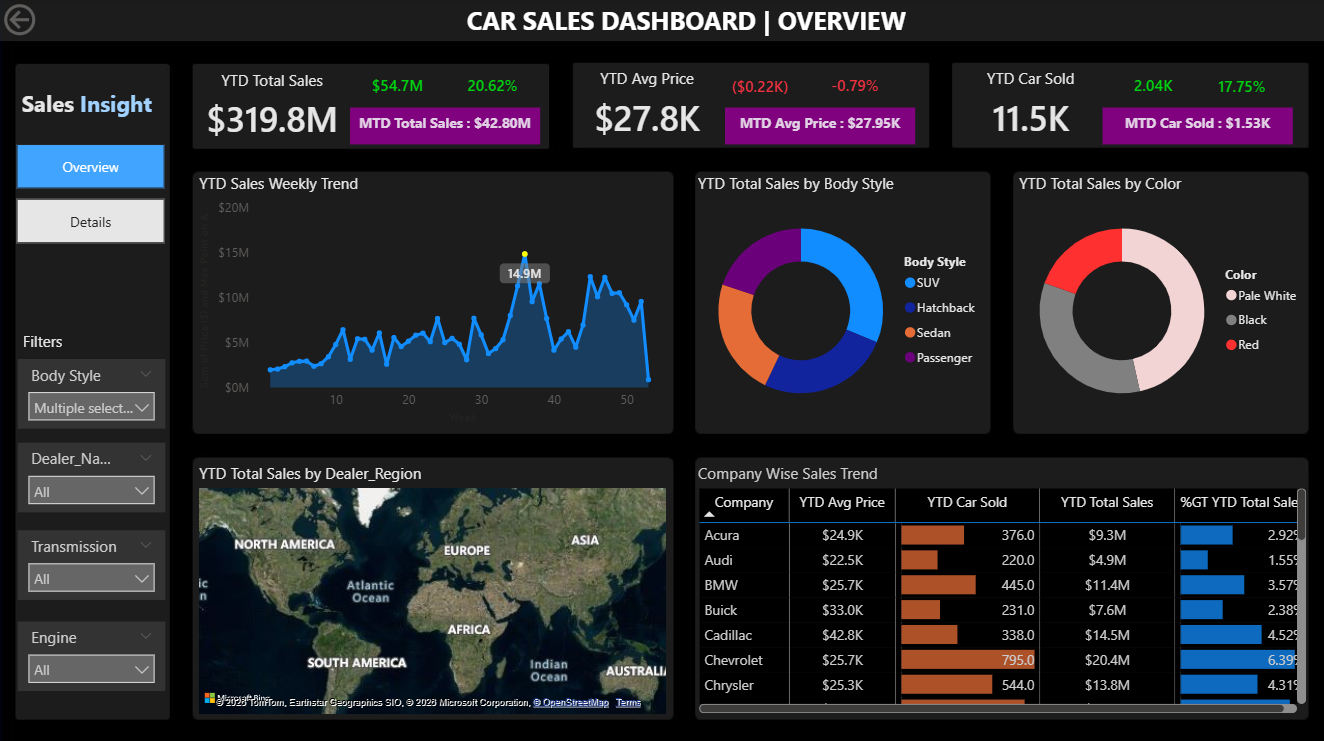

Layout of this report page (visuals, bound fields, positions):
{"tool":"powerbi","page":{"name":"Page 1","canvas":[1280,720],"ordinal":0},"visuals":[{"type":"card","title":"YTD Total Sales","fields":{"Values":["car_data.YTD Total Sales"]},"box":[188.2,67.6,150.8,77.2],"z":0},{"type":"card","fields":{"Values":["car_data.Sales Difference"]},"box":[339,66.4,91.7,38.6],"z":1000},{"type":"card","fields":{"Values":["car_data.YOY Sales Growth"]},"box":[430.7,66.4,91.7,38.6],"z":2000},{"type":"card","fields":{"Values":["car_data.MTD KPI"]},"box":[339,105,183.4,35],"z":3000},{"type":"card","title":"YTD Avg Price ","fields":{"Values":["car_data.YTD Avg Price"]},"box":[550.1,66.4,150.8,77.2],"z":4000},{"type":"card","fields":{"Values":["car_data.Avg Price Diff"]},"box":[688.9,67.6,91.7,38.6],"z":5000},{"type":"card","fields":{"Values":["car_data.YOY Avg Price Growth"]},"box":[780.6,66.4,91.7,38.6],"z":6000},{"type":"card","fields":{"Values":["car_data.MTD Avg Price KPI"]},"box":[700.9,105,183.4,35],"z":7000},{"type":"card","title":"YTD Car Sold","fields":{"Values":["car_data.YTD Car Sold"]},"box":[920.5,66.4,150.8,77.2],"z":8000},{"type":"card","fields":{"Values":["car_data.Car Sold Diff"]},"box":[1071.3,66.4,85.7,38.6],"z":9000},{"type":"actionButton","box":[0,0,100,40],"z":10000},{"type":"card","fields":{"Values":["car_data.YOY Car Sold Growth"]},"box":[1157,67.6,85.7,38.6],"z":11000},{"type":"card","fields":{"Values":["car_data.MTD Car Sold KPI"]},"box":[1065.3,105,183.4,35],"z":12000},{"type":"areaChart","title":"YTD Sales Weekly Trend","fields":{"Category":["Calender Table.Week"],"Y":["Sum(car_data.Price ($))","car_data.Max Point on Area Chart"]},"box":[188.2,167.7,460.9,247.3],"z":13000},{"type":"donutChart","fields":{"Category":["car_data.Body Style"],"Y":["car_data.YTD Total Sales"]},"box":[669.6,167.4,286.8,247],"z":14000},{"type":"donutChart","fields":{"Y":["car_data.YTD Total Sales"],"Category":["car_data.Color"]},"box":[979.8,167.4,286.8,247],"z":15000},{"type":"treemap","fields":{"Group":["car_data.Dealer_Region"],"Values":["car_data.YTD Total Sales"]},"box":[188,447.3,461.1,247],"z":16000},{"type":"tableEx","title":"Company Wise Sales Trend","fields":{"Values":["car_data.Company","car_data.YTD Avg Price","car_data.YTD Car Sold","car_data.YTD Total Sales1","car_data.YTD Total Sales"]},"box":[669.6,447.3,596.9,247],"z":17000},{"type":"textbox","box":[430.9,0,465.2,64.5],"z":18000},{"type":"slicer","fields":{"Values":["car_data.Body Style"]},"box":[18.1,347.5,142.4,67.6],"z":19000},{"type":"slicer","fields":{"Values":["car_data.Dealer_Name","car_data.Dealer_Region"]},"box":[18.1,428.3,142.4,67.6],"z":20000},{"type":"slicer","fields":{"Values":["car_data.Transmission"]},"box":[18.1,512.7,142.4,67.6],"z":21000},{"type":"slicer","fields":{"Values":["car_data.Engine"]},"box":[18.1,600.8,142.4,67.6],"z":22000},{"type":"textbox","box":[18.1,314.9,59.1,32.6],"z":23000}]}

Visuals, with their boxes on the page's 1280x720 design canvas (x1, y1, x2, y2). These are canvas units, not pixel positions in the 1324x741 screenshot, which may show the page scaled, cropped or inside an application window:
"YTD Total Sales" card: (x1=188, y1=68, x2=339, y2=145)
card - car_data.Sales Difference: (x1=339, y1=66, x2=431, y2=105)
card - car_data.YOY Sales Growth: (x1=431, y1=66, x2=522, y2=105)
card - car_data.MTD KPI: (x1=339, y1=105, x2=522, y2=140)
"YTD Avg Price " card: (x1=550, y1=66, x2=701, y2=144)
card - car_data.Avg Price Diff: (x1=689, y1=68, x2=781, y2=106)
card - car_data.YOY Avg Price Growth: (x1=781, y1=66, x2=872, y2=105)
card - car_data.MTD Avg Price KPI: (x1=701, y1=105, x2=884, y2=140)
"YTD Car Sold" card: (x1=920, y1=66, x2=1071, y2=144)
card - car_data.Car Sold Diff: (x1=1071, y1=66, x2=1157, y2=105)
actionButton: (x1=0, y1=0, x2=100, y2=40)
card - car_data.YOY Car Sold Growth: (x1=1157, y1=68, x2=1243, y2=106)
card - car_data.MTD Car Sold KPI: (x1=1065, y1=105, x2=1249, y2=140)
"YTD Sales Weekly Trend" areaChart: (x1=188, y1=168, x2=649, y2=415)
donutChart - car_data.Body Style x car_data.YTD Total Sales: (x1=670, y1=167, x2=956, y2=414)
donutChart - car_data.YTD Total Sales x car_data.Color: (x1=980, y1=167, x2=1267, y2=414)
treemap - car_data.Dealer_Region x car_data.YTD Total Sales: (x1=188, y1=447, x2=649, y2=694)
"Company Wise Sales Trend" tableEx: (x1=670, y1=447, x2=1266, y2=694)
textbox: (x1=431, y1=0, x2=896, y2=64)
slicer - car_data.Body Style: (x1=18, y1=348, x2=160, y2=415)
slicer - car_data.Dealer_Name x car_data.Dealer_Region: (x1=18, y1=428, x2=160, y2=496)
slicer - car_data.Transmission: (x1=18, y1=513, x2=160, y2=580)
slicer - car_data.Engine: (x1=18, y1=601, x2=160, y2=668)
textbox: (x1=18, y1=315, x2=77, y2=348)
